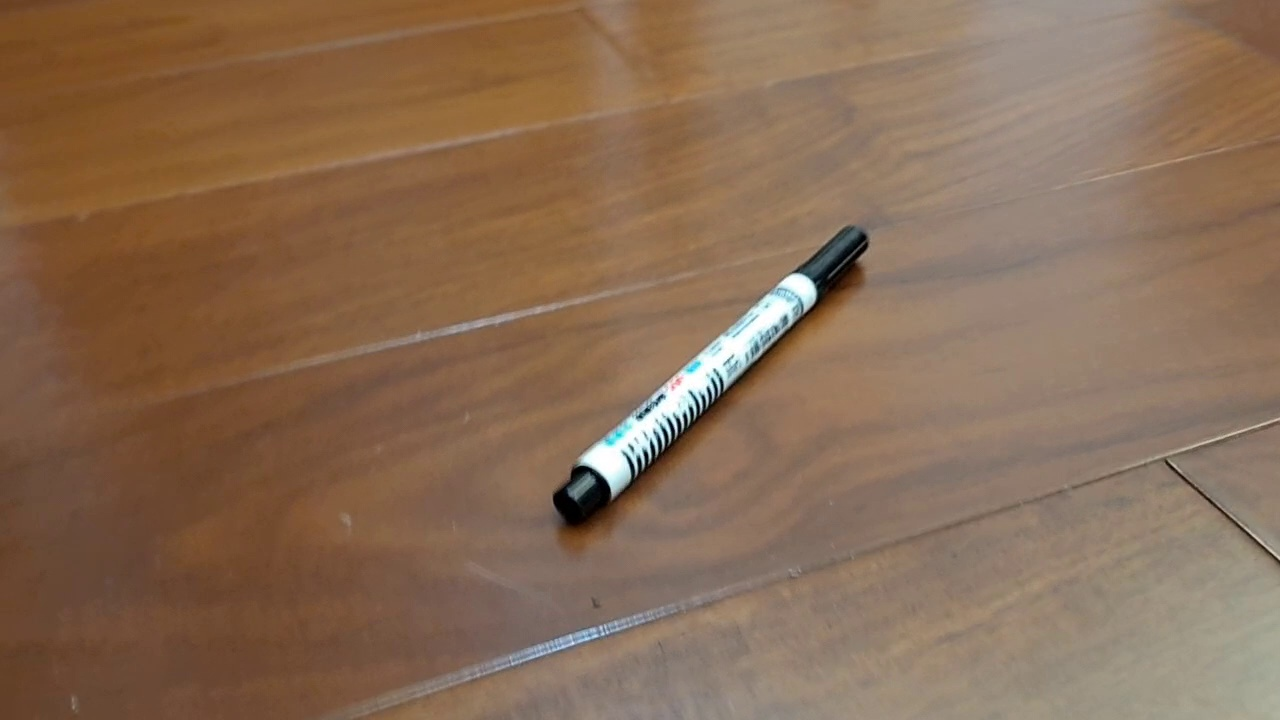pen: (552, 223, 870, 527)
